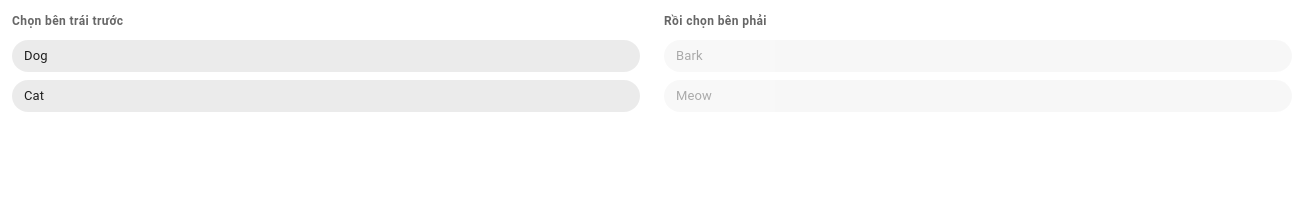
Scenario: Matching › creates a pair by clicking left then right
Click the button with aria-label "Chọn Dog" at (36, 56), box [12,40,640,72]
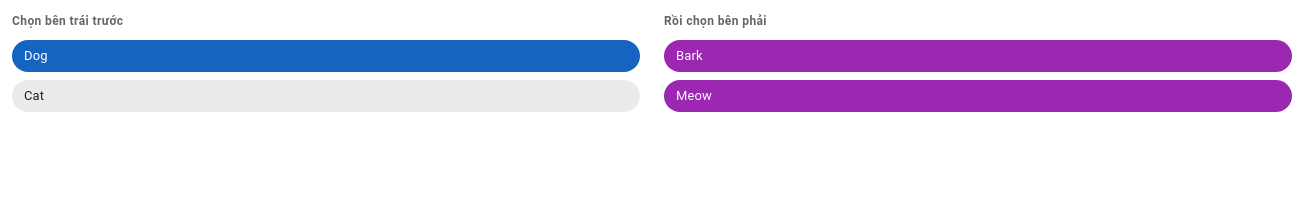
Click the button with aria-label "Ghép Bark" at (689, 56), box [664,40,1291,72]
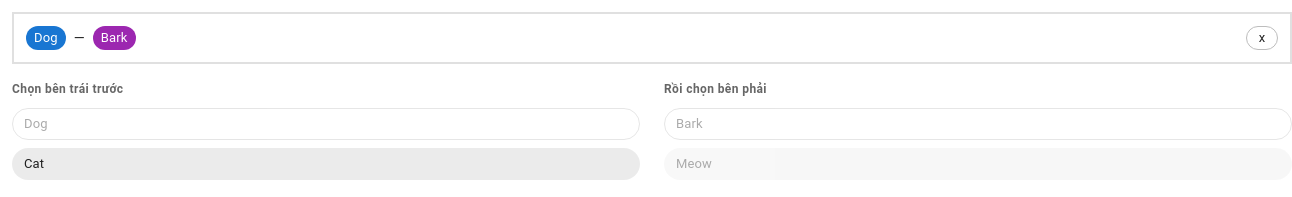
Expected: the button named "Xóa cặp Dog — Bark" is shown, [1246,26,1278,50]
